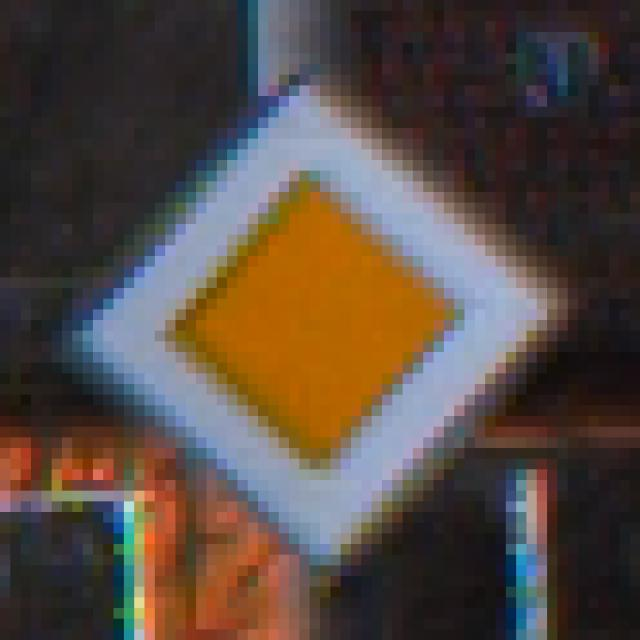Main Road: (53, 54, 590, 588)
